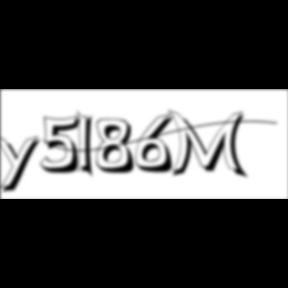5: (40, 114, 86, 176)
6: (136, 112, 180, 176)
8: (96, 117, 142, 176)
M: (167, 108, 251, 181)
l: (78, 108, 101, 182)
y: (0, 132, 46, 196)
